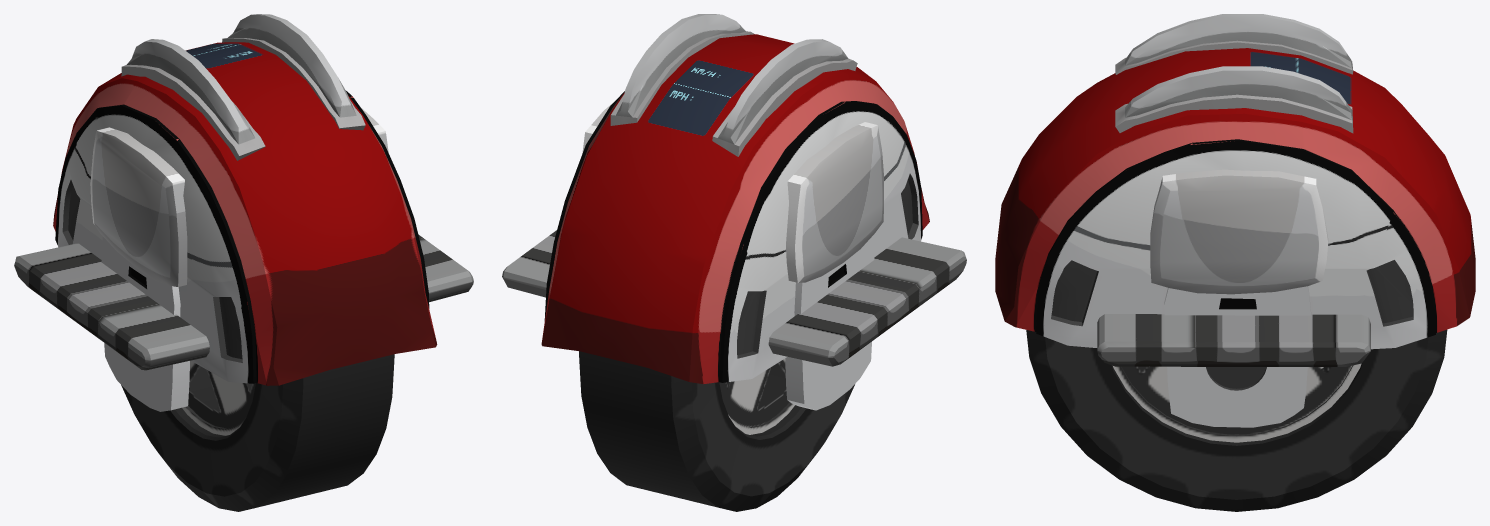
Rendered from hcr2_monowheel.glb.
3 renders of one model, left to right at view 1: azimuth 30°, elevation 25°; view 2: azimuth 150°, elevation 25°; view 3: azimuth 270°, elevation 25°, orthographic.
Visible parts, largest first — view 1: HCR2_Mw_Body_1, HCR2_Mw_Wheel_0; view 2: HCR2_Mw_Body_1, HCR2_Mw_Wheel_0; view 3: HCR2_Mw_Body_1, HCR2_Mw_Wheel_0.
Part boxes in pixels (<box>): HCR2_Mw_Body_1: <box>14,14,473,411</box>; HCR2_Mw_Wheel_0: <box>121,354,394,511</box>; HCR2_Mw_Body_1: <box>502,14,966,410</box>; HCR2_Mw_Wheel_0: <box>579,351,854,511</box>; HCR2_Mw_Body_1: <box>995,14,1475,427</box>; HCR2_Mw_Wheel_0: <box>1026,329,1447,511</box>.
Bounding box in the file's own units: 0.6986 × 0.9017 × 0.8773.
2 materials, 2 textured.
